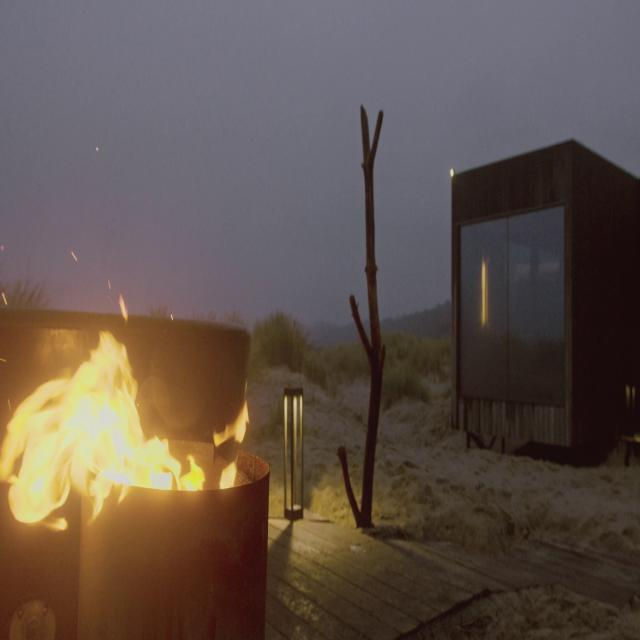Fire: (2, 322, 192, 530)
